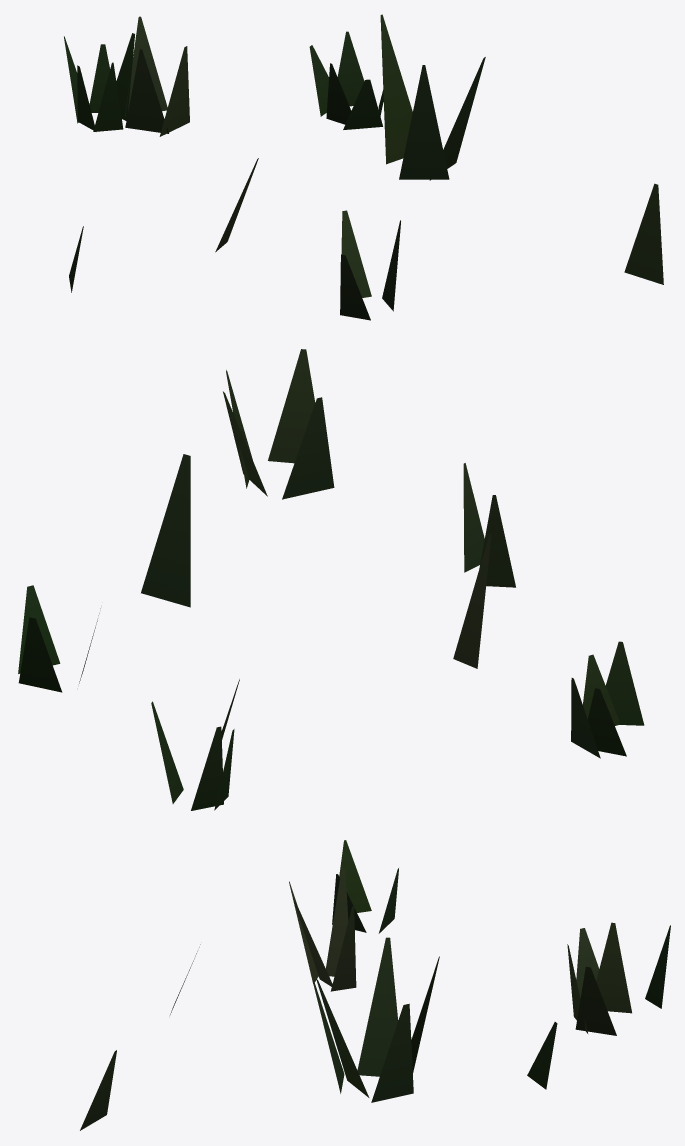
File: grass_tuft_v1.glb
The picture shows the model from 3 angles, top to bottom: view 1: azimuth 30°, elevation 25°; view 2: azimuth 150°, elevation 25°; view 3: azimuth 270°, elevation 25°; orthographic projection. The views are drawn at different scales.
Size of the model in its own units: 0.8486 by 0.2358 by 1.
